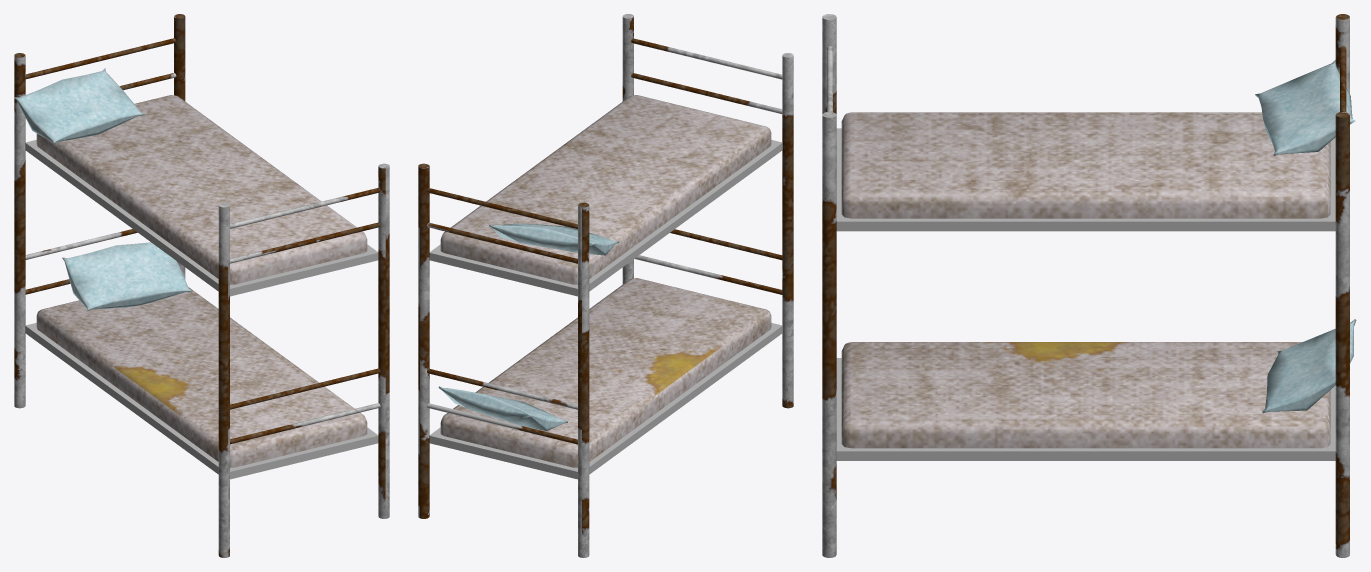
File: cama.fbx
3 renders of one model, left to right at view 1: azimuth 30°, elevation 25°; view 2: azimuth 150°, elevation 25°; view 3: azimuth 270°, elevation 25°, orthographic. The views are drawn at different scales.
Visible parts, largest first — view 1: Cube.006; view 2: Cube.006; view 3: Cube.006.
Part boxes in pixels (box(x1,y1,x2,y2)): Cube.006: box(14, 14, 389, 557); Cube.006: box(418, 14, 793, 557); Cube.006: box(822, 14, 1356, 557).
Bounding box in the file's own units: 122 × 238 × 261.
1 material, 1 textured.
